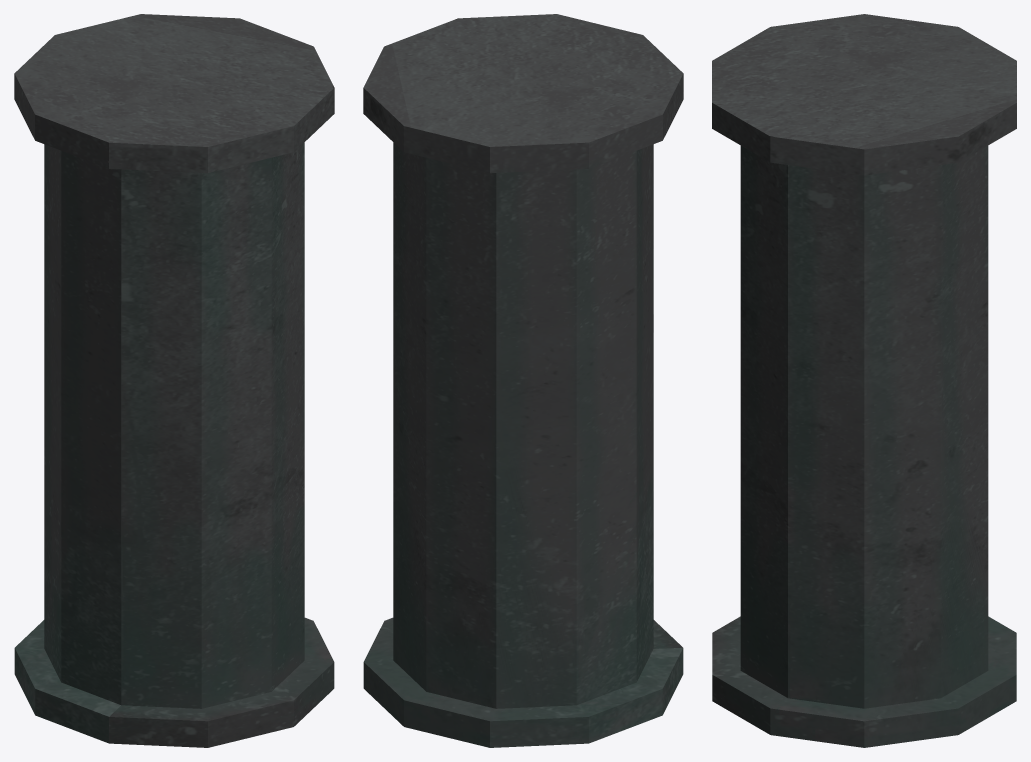
File: Pipe Straight Large.fbx
3 renders of one model, left to right at view 1: azimuth 30°, elevation 25°; view 2: azimuth 150°, elevation 25°; view 3: azimuth 270°, elevation 25°, orthographic.
Parts seen in each view (by area): view 1: Straight_L; view 2: Straight_L; view 3: Straight_L.
Part boxes in pixels (<box>): Straight_L: <box>14,14,334,747</box>; Straight_L: <box>363,14,683,747</box>; Straight_L: <box>712,14,1016,747</box>.
Size of the model in its own units: 4.51 by 9.28 by 4.28.
1 material, 1 textured.
